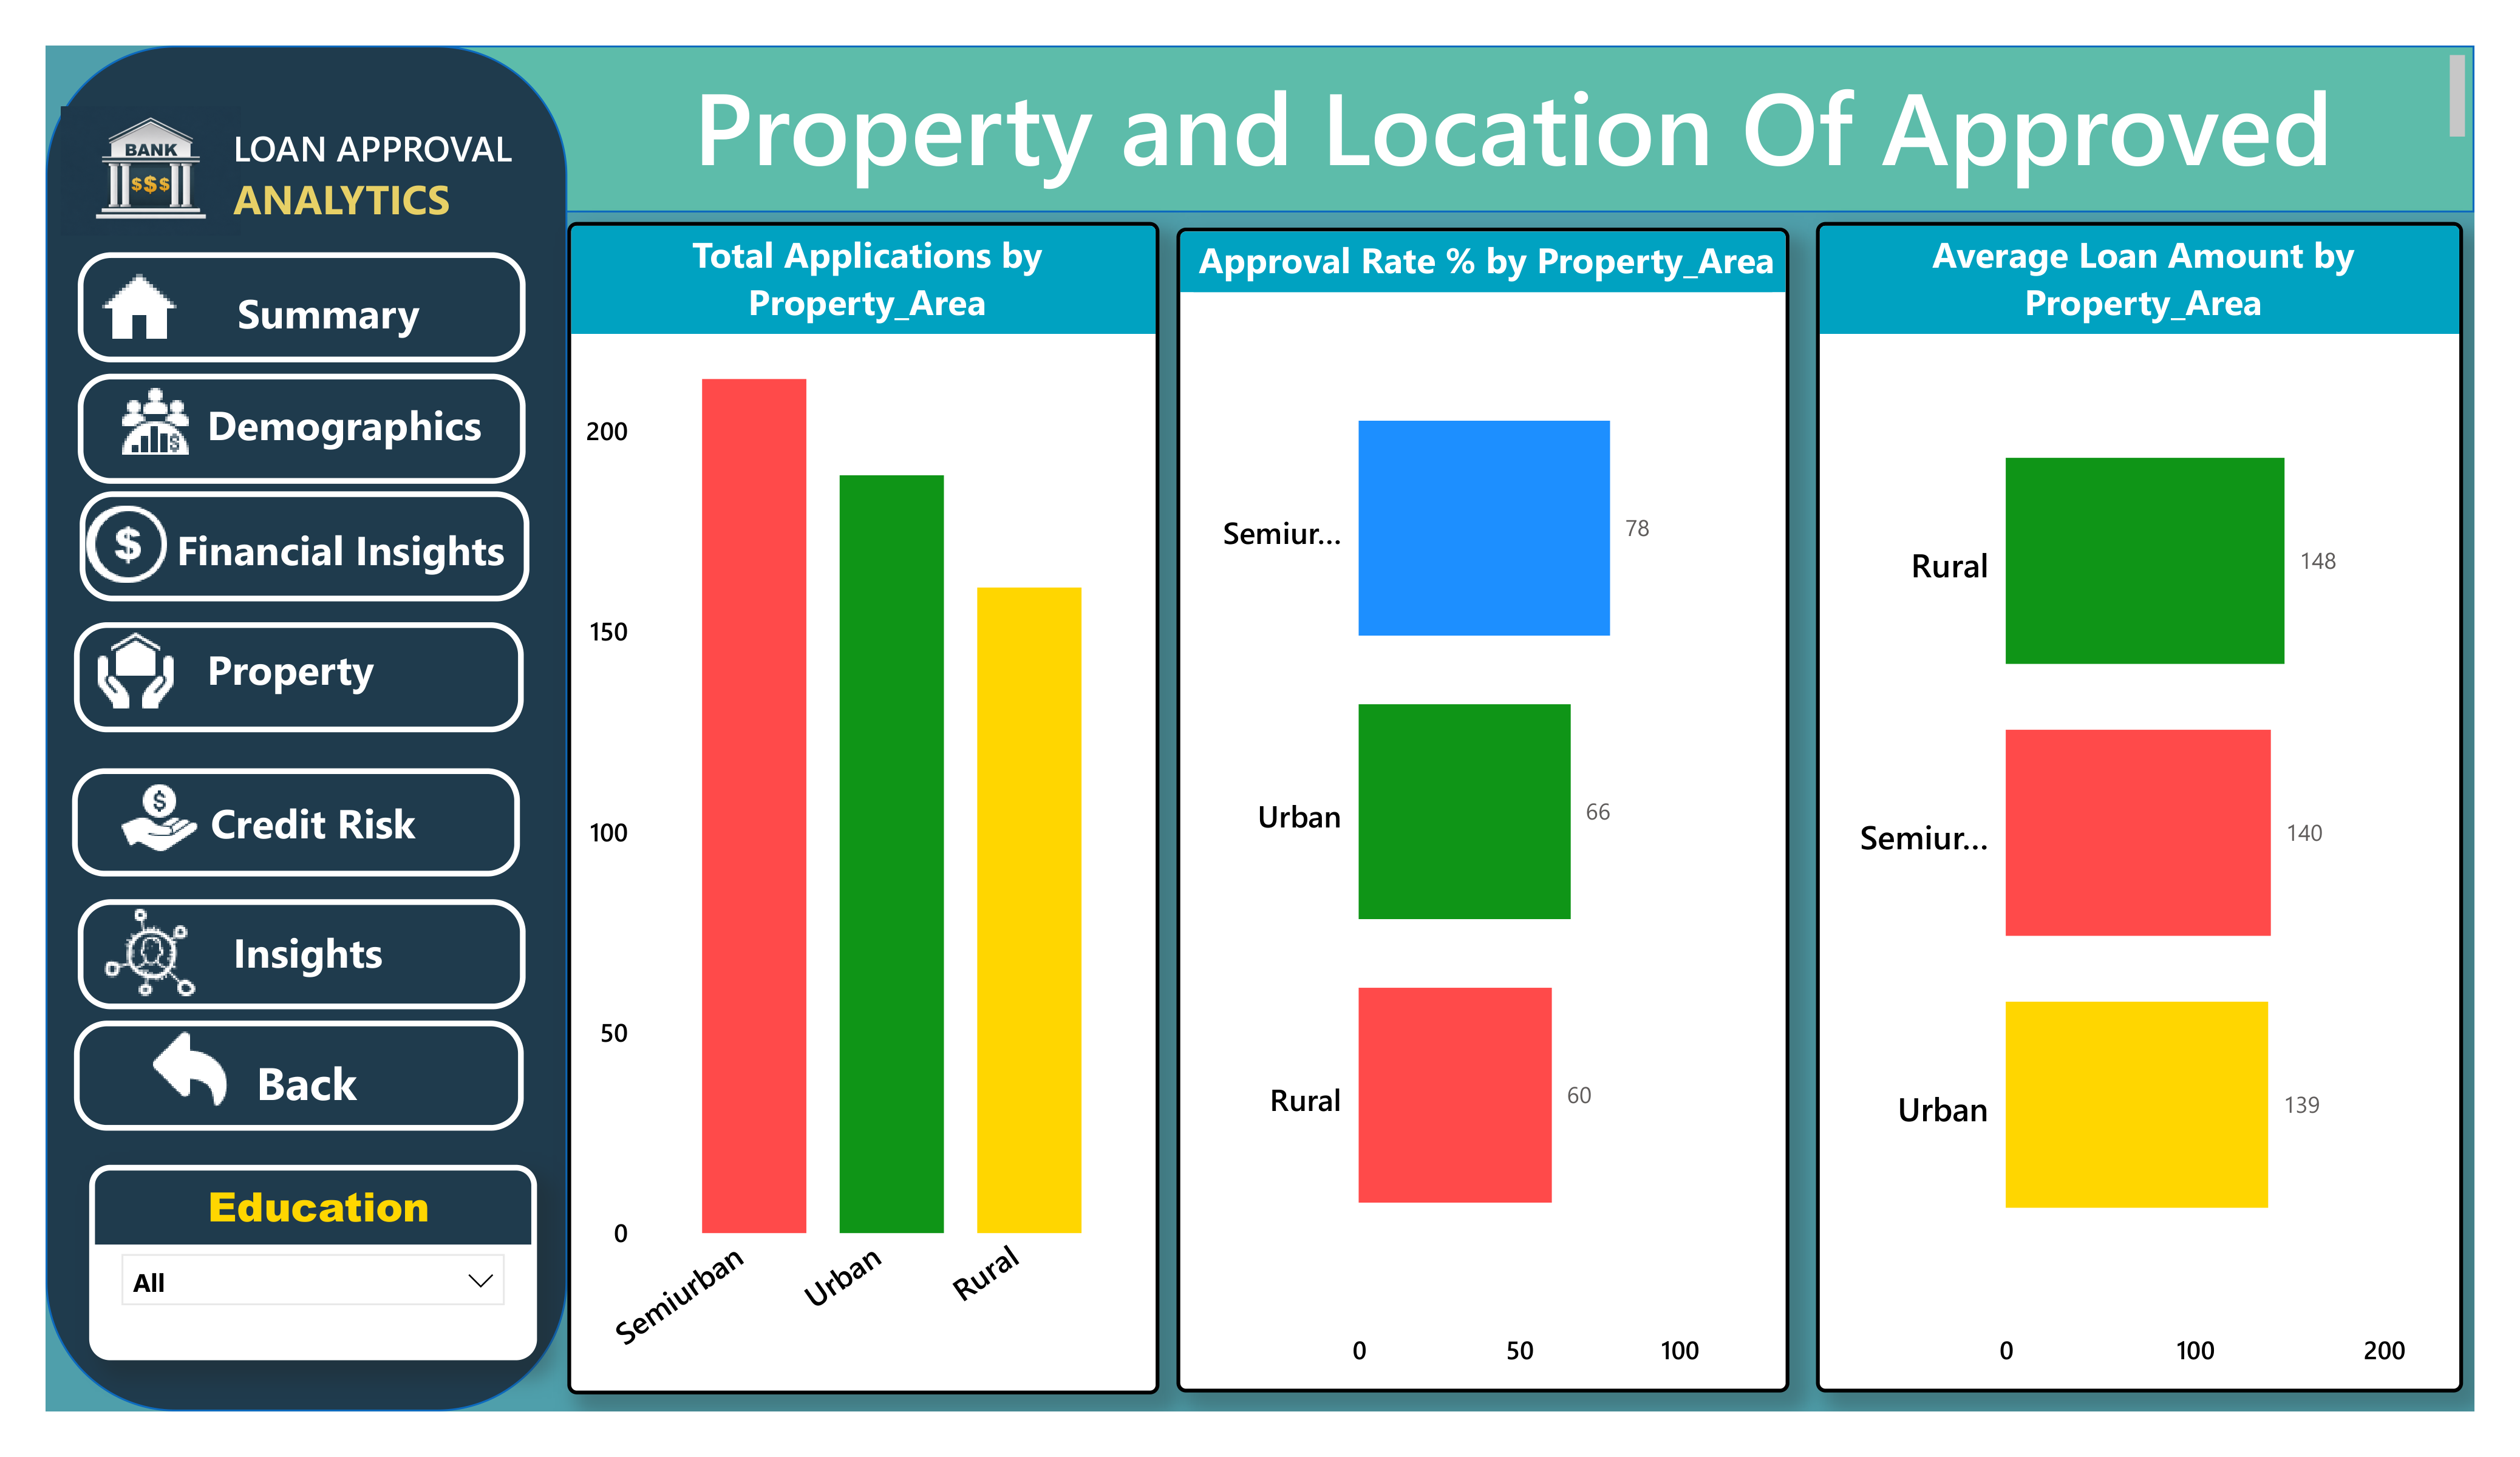

The dashboard page shown, as its layout file describes it:
{"tool":"powerbi","page":{"name":"Property and Location ","canvas":[1280,720],"ordinal":3},"visuals":[{"type":"shape","box":[78.9,0,1201.1,88],"z":0},{"type":"actionButton","box":[15.2,303.9,236.6,57.6],"z":0,"group":"g1"},{"type":"textbox","box":[274.5,0,1005.5,88],"z":1000},{"type":"textbox","box":[80.4,308.4,128.9,48.5],"z":1000,"group":"g1"},{"type":"shape","box":[0,0,274.5,720.4],"z":2000},{"type":"image","box":[3,6.1,104.6,119.8],"z":3000},{"type":"textbox","box":[94,36.4,172.9,63.7],"z":4000},{"type":"actionButton","box":[16.7,109.2,236.6,57.6],"z":5000},{"type":"image","box":[22.7,109.2,53.1,57.6],"z":6000},{"type":"textbox","box":[95.5,121.3,130.4,45.5],"z":7000},{"type":"actionButton","box":[16.7,172.9,236.6,57.6],"z":8000},{"type":"image","box":[27.3,172.9,60.7,50],"z":9000},{"type":"textbox","box":[80.4,180.5,159.2,44],"z":10000},{"type":"actionButton","box":[18.2,235.1,236.6,57.6],"z":11000},{"type":"image","box":[15.2,233.6,56.1,57.6],"z":12000},{"type":"textbox","box":[63.7,245.7,189.6,48.5],"z":13000},{"type":"slicer","title":"Education","fields":{"Values":["l_approved.Education"]},"box":[22.7,590,236.6,103.1],"z":14000},{"type":"actionButton","box":[16.7,450.4,236.6,57.6],"z":15000},{"type":"textbox","box":[94,458,116.8,40.9],"z":16000},{"type":"image","box":[22.7,447.4,65.2,62.2],"z":17000},{"type":"actionButton","box":[15.2,514.1,236.6,57.6],"z":18000},{"type":"image","box":[44,508.1,63.7,63.7],"z":19000},{"type":"textbox","box":[106.2,524.7,104.6,47],"z":20000},{"type":"columnChart","fields":{"Category":["l_approved.Property_Area"],"Y":["l_approved.Total Applications"]},"box":[274.5,92.5,312.4,618.8],"z":21000},{"type":"barChart","fields":{"Category":["l_approved.Property_Area"],"Y":["l_approved.Approval Rate %"]},"box":[596,95.5,323,614.2],"z":22000},{"type":"barChart","fields":{"Category":["l_approved.Property_Area"],"Y":["l_approved.Average Loan Amount"]},"box":[932.7,92.5,341.2,617.3],"z":23000},{"type":"group","id":"g1","title":"Group 1","box":[15.2,303.9,236.6,57.6],"z":24000},{"type":"image","box":[34.9,379.1,50,56.1],"z":25000},{"type":"image","box":[0,303.3,94,53.1],"z":26000},{"type":"actionButton","box":[13.6,380.7,236.6,57.6],"z":27000},{"type":"textbox","box":[81.9,390.3,169.9,40.9],"z":28000}]}

Visuals, with their boxes in screenshot pixels (x1, y1, x2, y2):
shape: left=207, top=39, right=2456, bottom=204
actionButton: left=87, top=608, right=531, bottom=716
textbox: left=573, top=39, right=2456, bottom=204
textbox: left=209, top=617, right=451, bottom=708
shape: left=59, top=39, right=573, bottom=1388
image: left=65, top=51, right=261, bottom=275
textbox: left=235, top=107, right=559, bottom=227
actionButton: left=90, top=244, right=533, bottom=352
image: left=101, top=244, right=201, bottom=352
textbox: left=238, top=267, right=482, bottom=352
actionButton: left=90, top=363, right=533, bottom=471
image: left=110, top=363, right=224, bottom=457
textbox: left=209, top=378, right=508, bottom=460
actionButton: left=93, top=480, right=536, bottom=588
image: left=87, top=477, right=192, bottom=585
textbox: left=179, top=500, right=533, bottom=590
"Education" slicer: left=101, top=1144, right=545, bottom=1337
actionButton: left=90, top=883, right=533, bottom=991
textbox: left=235, top=897, right=454, bottom=973
image: left=101, top=877, right=223, bottom=993
actionButton: left=87, top=1002, right=531, bottom=1110
image: left=141, top=991, right=261, bottom=1110
textbox: left=258, top=1022, right=454, bottom=1110
columnChart - l_approved.Property_Area x l_approved.Total Applications: left=573, top=212, right=1158, bottom=1371
barChart - l_approved.Property_Area x l_approved.Approval Rate %: left=1175, top=218, right=1780, bottom=1368
barChart - l_approved.Property_Area x l_approved.Average Loan Amount: left=1806, top=212, right=2445, bottom=1368
"Group 1" group: left=87, top=608, right=531, bottom=716
image: left=124, top=749, right=218, bottom=854
image: left=59, top=607, right=235, bottom=707
actionButton: left=84, top=752, right=528, bottom=860
textbox: left=213, top=770, right=531, bottom=847
